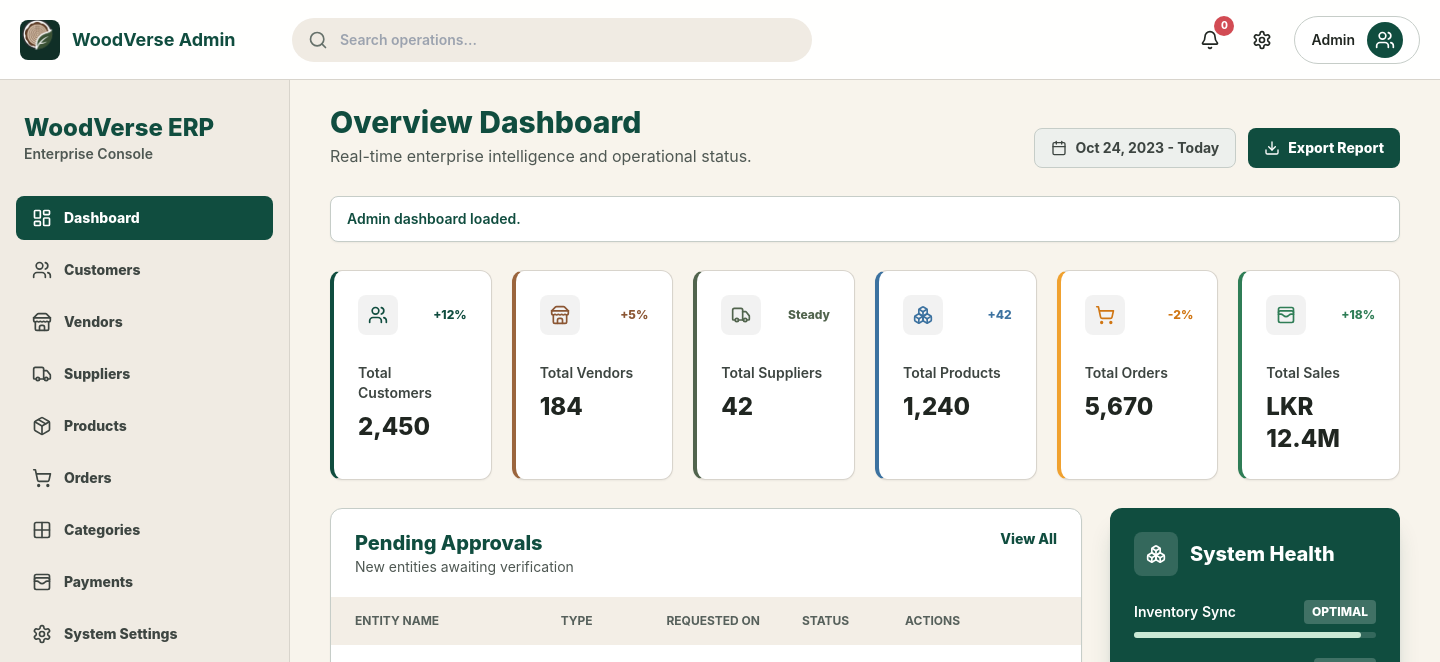
Scenario: Admin portal routes › moves the URL when a sidebar section is clicked
Check: the heading "Overview Dashboard" is shown, box [330,104,641,140]
Step 1. Click the button "Payments" → [144, 582], box [16,560,273,604]
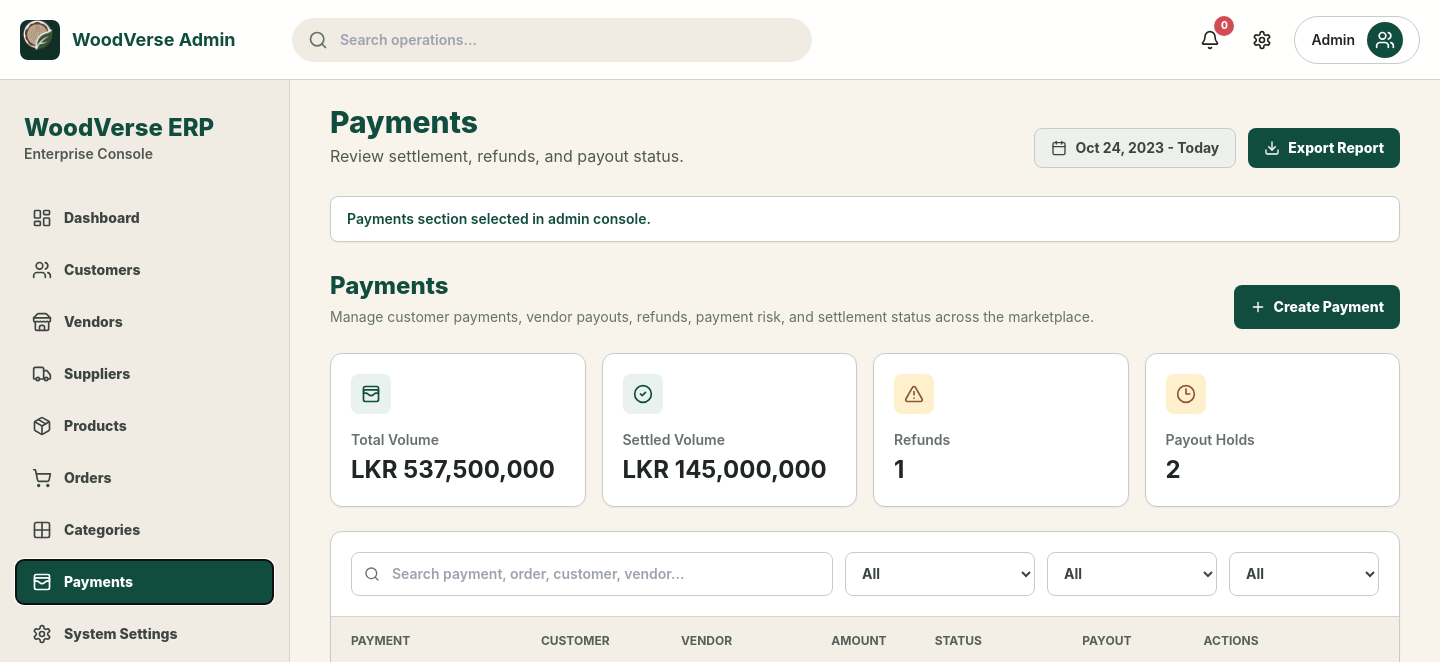
Check: the 1st heading "Payments" is shown, box [330,104,478,140]
